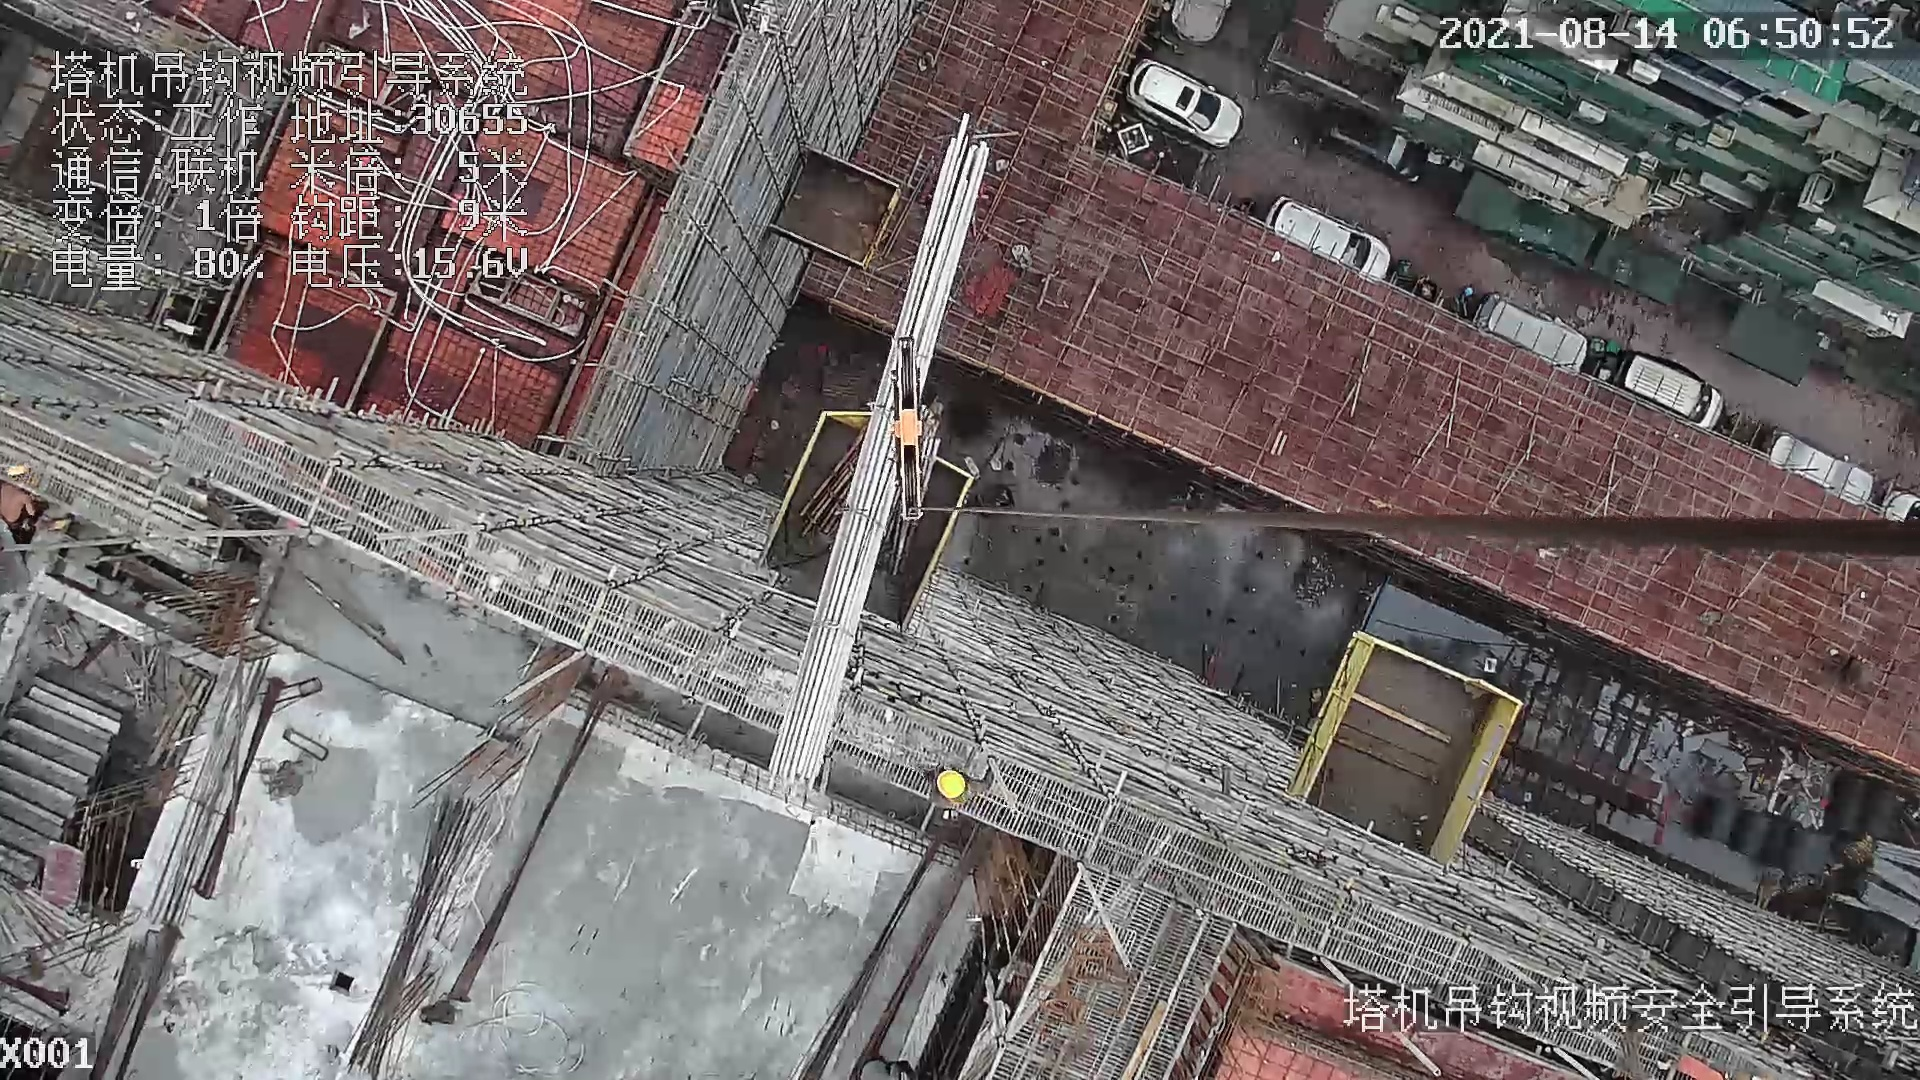helmet: (937, 761, 968, 806)
hook: (879, 332, 933, 523)
person: (910, 751, 1005, 810), (5, 456, 43, 556)
